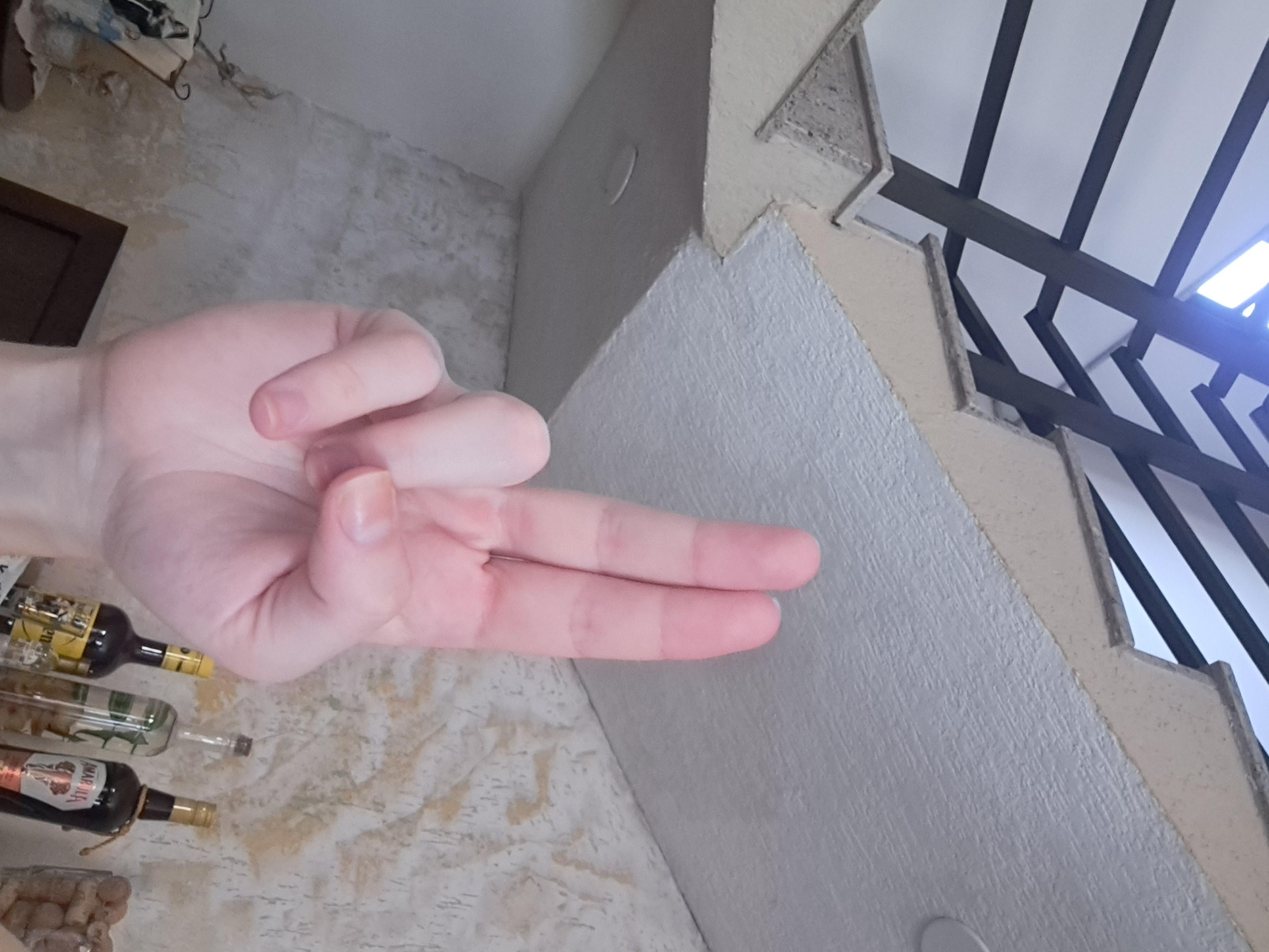U: (347, 332, 933, 890)
